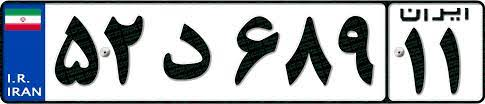character: (158, 14, 217, 89), (282, 10, 335, 93), (52, 9, 103, 95), (228, 10, 280, 92), (101, 6, 147, 95), (336, 10, 381, 92), (397, 25, 434, 98), (436, 24, 469, 98)
